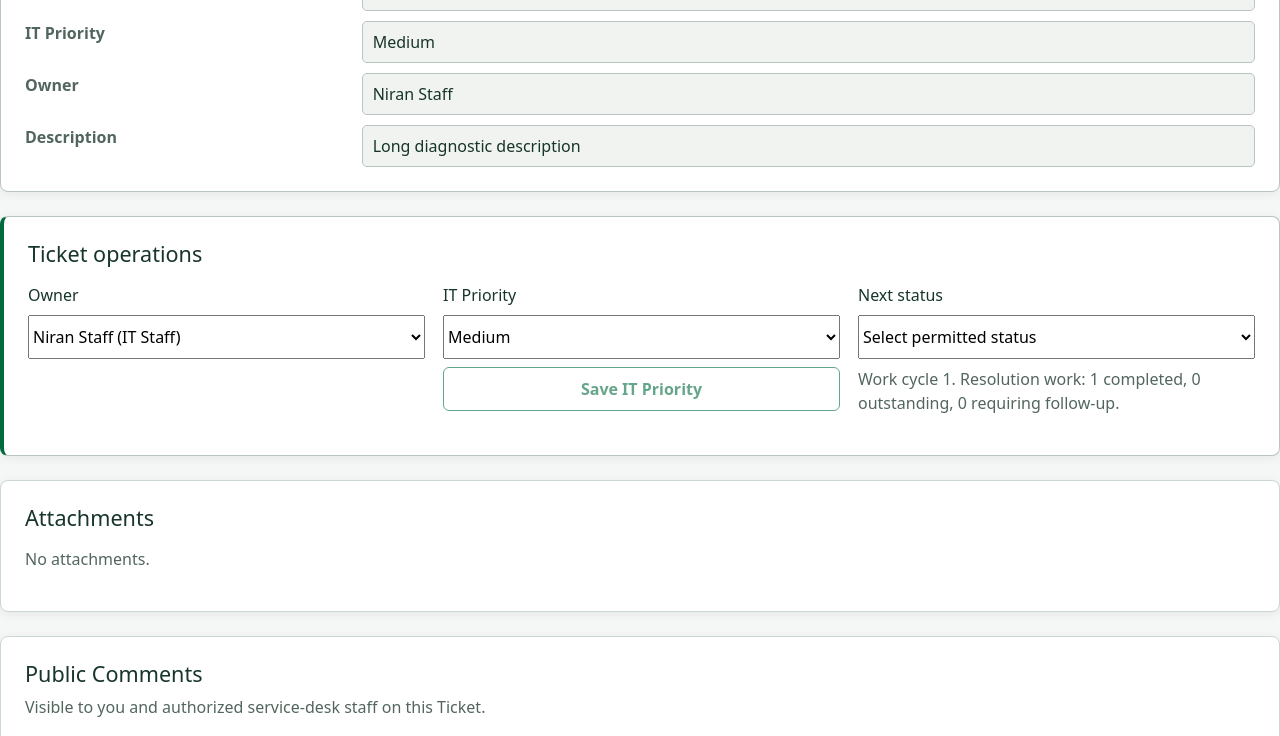
Test: UI-04 Staff Ticket Detail operations › shows only permitted next statuses and requires contextual confirmation fields
(page scrolled)
Select "Resolved" in the dropdown labelled "Next status" at (1056, 337), box 858,315 -> 1255,359
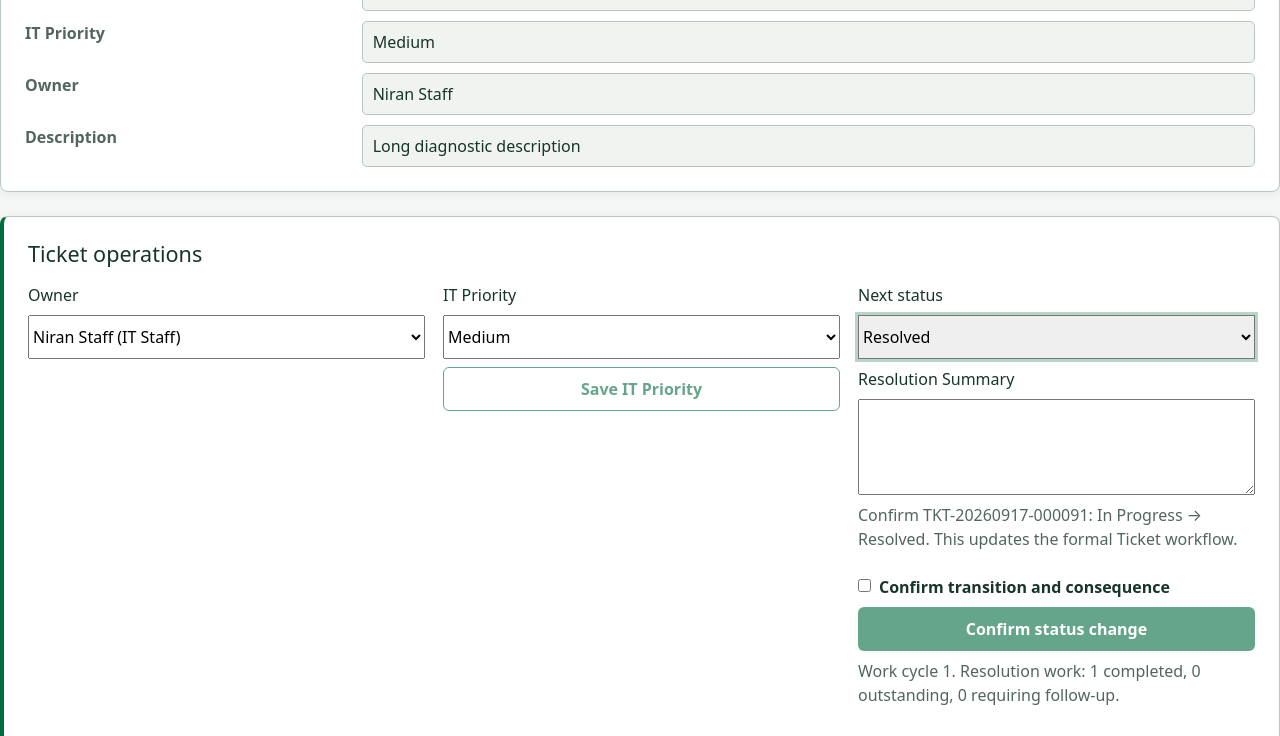
Expected: the text box labelled "Resolution Summary" is shown
Expected: the button "Confirm status change" is shown, 858,607 -> 1255,651
Type "Validated and restored access" into the text box labelled "Resolution Summary" at (1056, 447), box 858,399 -> 1255,495
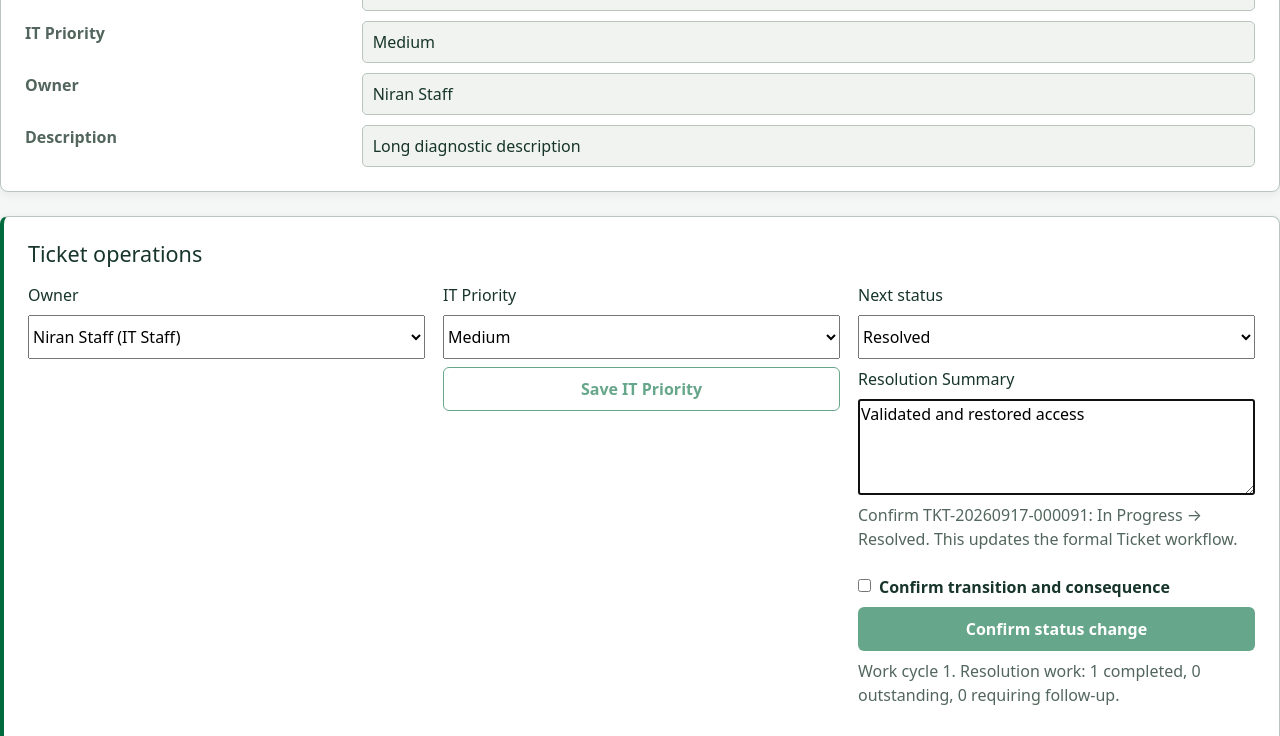
Click the checkbox labelled "Confirm transition and consequence" at (864, 585), box 858,579 -> 871,592
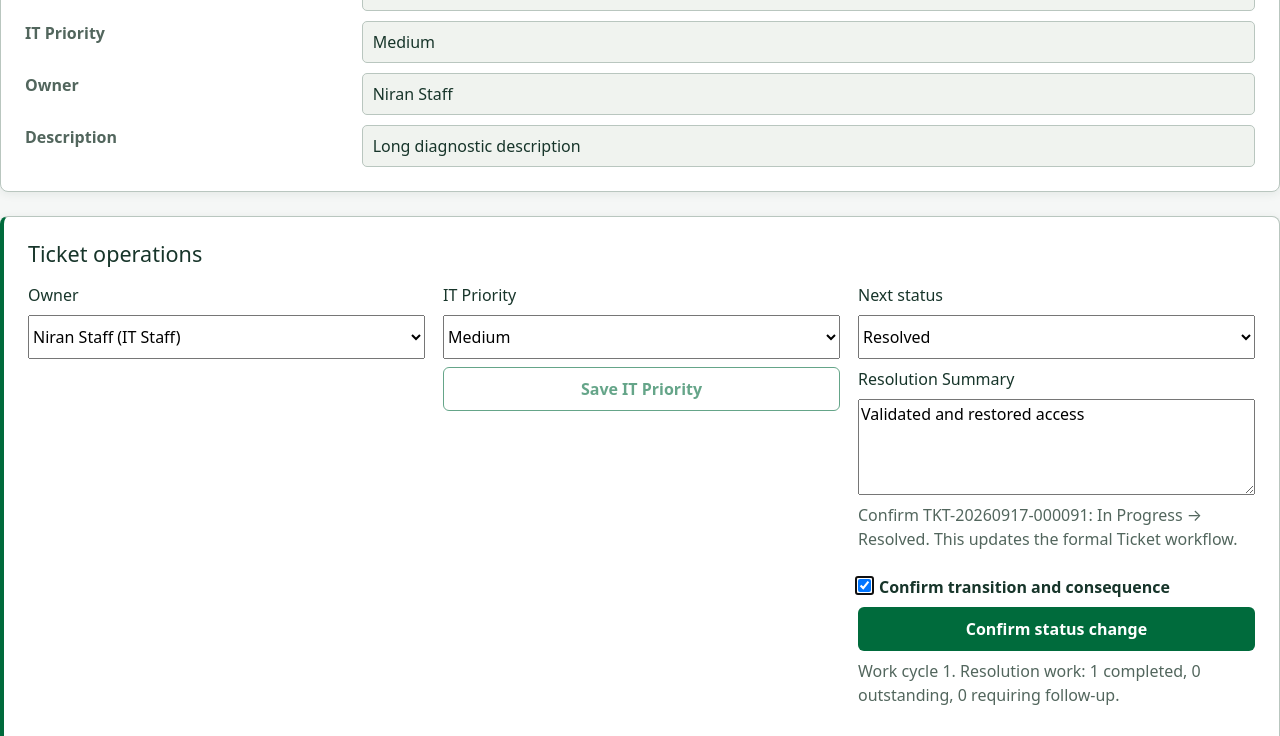
Click the button "Confirm status change" at (1056, 629), box 858,607 -> 1255,651
(page scrolled)
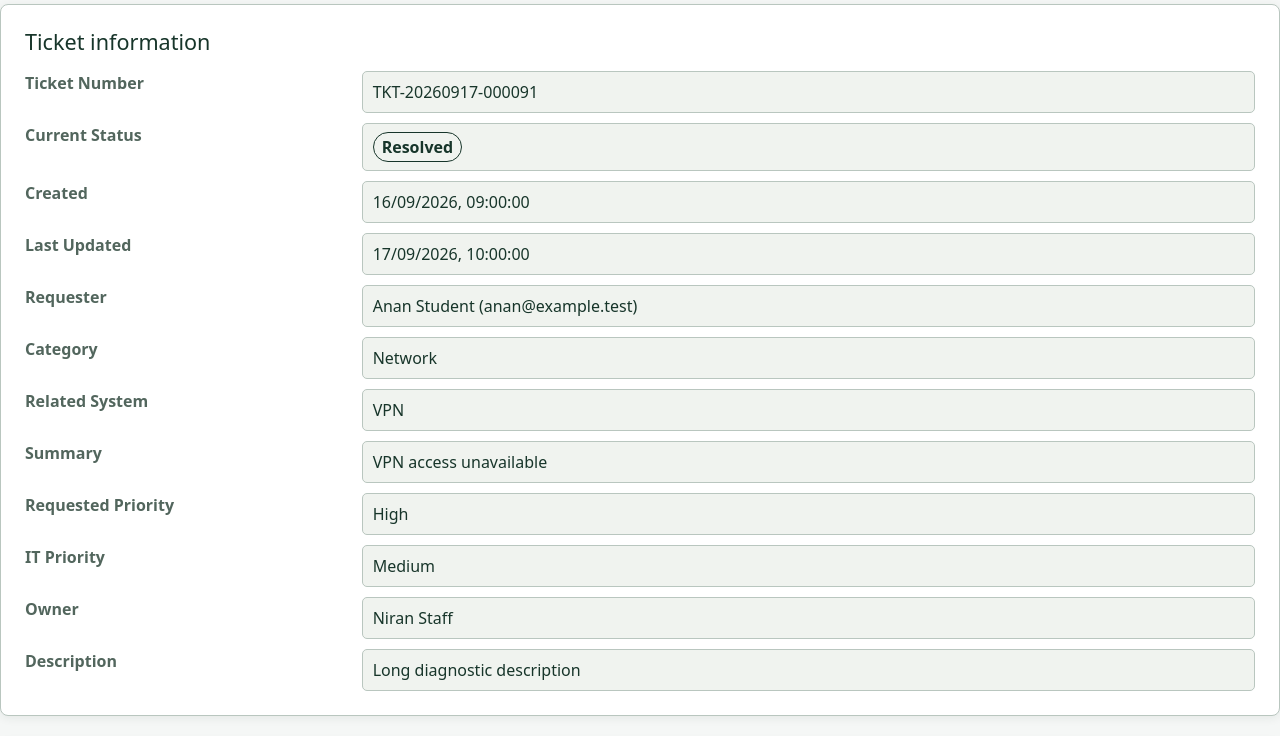
Expected: the text "Resolved" is shown, 373,132 -> 462,162
